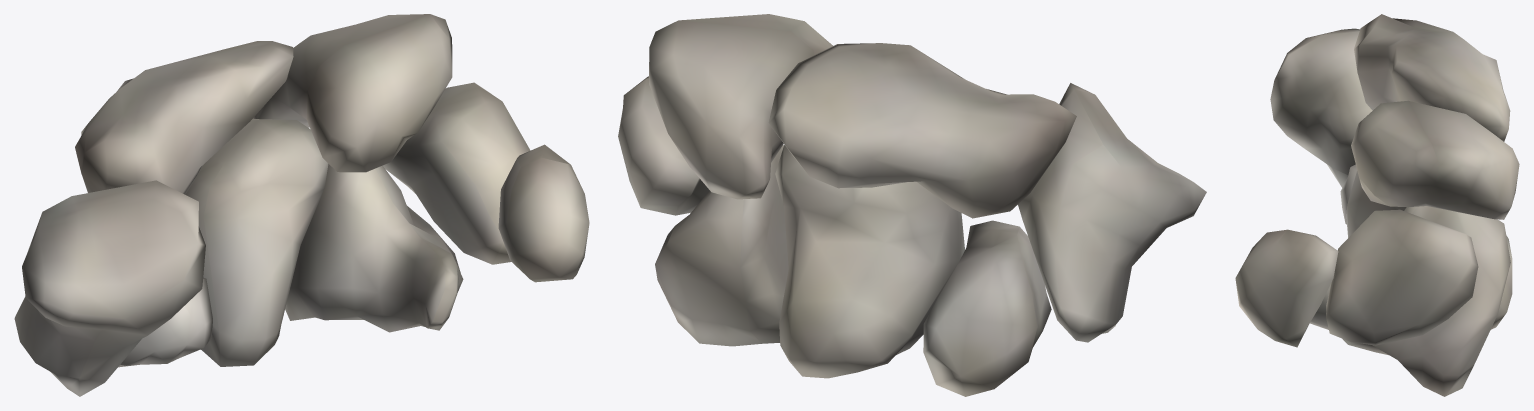
Rendered from bone-wrist.glb.
3 views of the same model, side by side, from view 1: azimuth 30°, elevation 25°; view 2: azimuth 150°, elevation 25°; view 3: azimuth 270°, elevation 25° (orthographic). The views are drawn at different scales.
Parts seen in each view (by area): view 1: Right_trapezium, Right_capitate, Right_hamate, Right_lunate, Right_scaphoid, Right_triquetral, Right_pisiform, Right_trapezoid; view 2: Right_scaphoid, Right_capitate, Right_trapezium, Right_lunate, Right_hamate, Right_trapezoid, Right_triquetral; view 3: Right_triquetral, Right_lunate, Right_scaphoid, Right_hamate, Right_trapezium, Right_pisiform, Right_capitate, Right_trapezoid.
Part boxes in pixels (x1,y1,x2,y2): Right_trapezium: (14, 180, 205, 396); Right_capitate: (185, 119, 328, 366); Right_hamate: (285, 164, 463, 332); Right_lunate: (253, 14, 452, 172); Right_scaphoid: (75, 41, 293, 194); Right_triquetral: (383, 82, 530, 264); Right_pisiform: (498, 144, 589, 282); Right_trapezoid: (118, 277, 212, 367); Right_scaphoid: (768, 43, 1076, 218); Right_capitate: (775, 144, 964, 378); Right_trapezium: (1018, 83, 1206, 342); Right_lunate: (649, 14, 832, 199); Right_hamate: (655, 145, 788, 346); Right_trapezoid: (923, 220, 1051, 396); Right_triquetral: (618, 76, 709, 215); Right_triquetral: (1326, 209, 1478, 345); Right_lunate: (1351, 100, 1519, 219); Right_scaphoid: (1354, 14, 1510, 141); Right_hamate: (1310, 206, 1510, 396); Right_trapezium: (1270, 28, 1372, 187); Right_pisiform: (1235, 229, 1338, 347); Right_capitate: (1346, 171, 1512, 329); Right_trapezoid: (1340, 164, 1357, 224).
Bounding box in the file's own units: 0.0492 × 0.028 × 0.0267.
8 materials, 8 textured.
